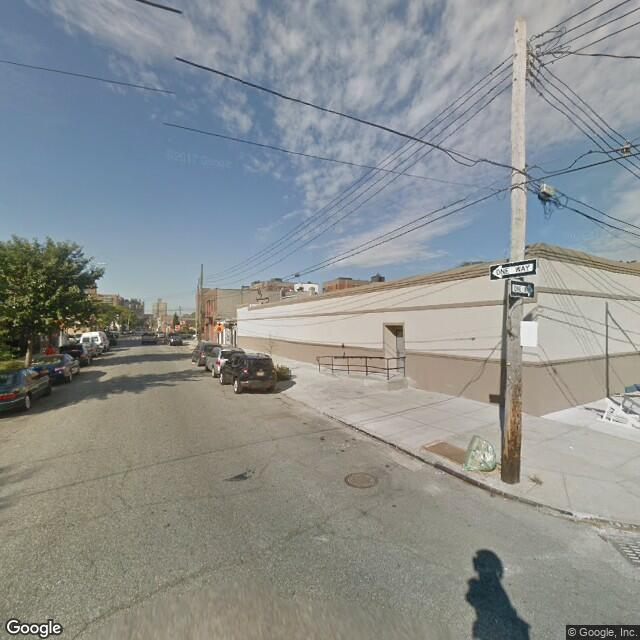litter: (457, 428, 498, 481)
